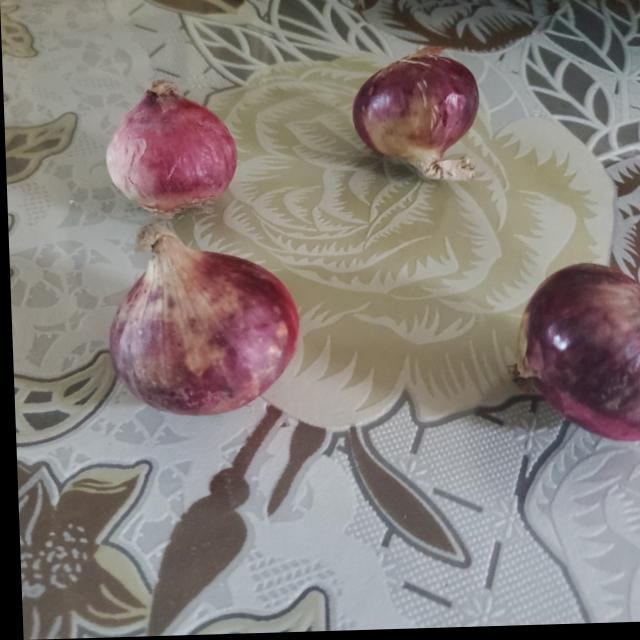onion: (101, 247, 296, 414), (515, 268, 640, 452), (107, 82, 242, 215), (352, 55, 484, 170)
